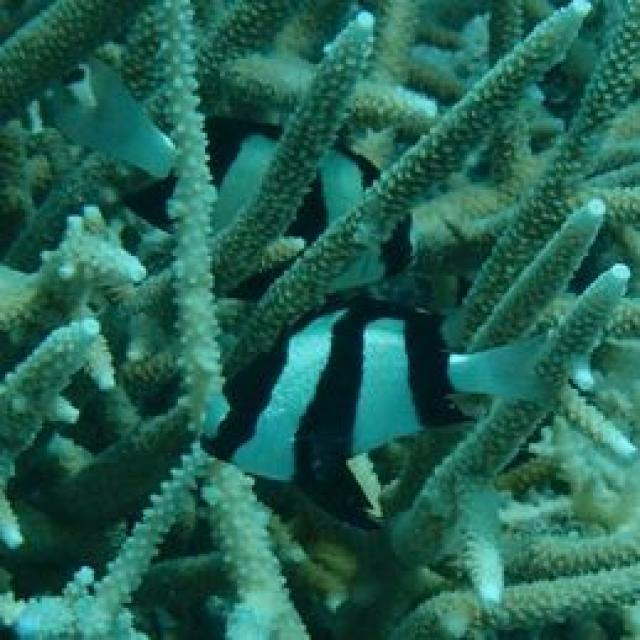Three_striped DasmselFish: (192, 303, 557, 536)
